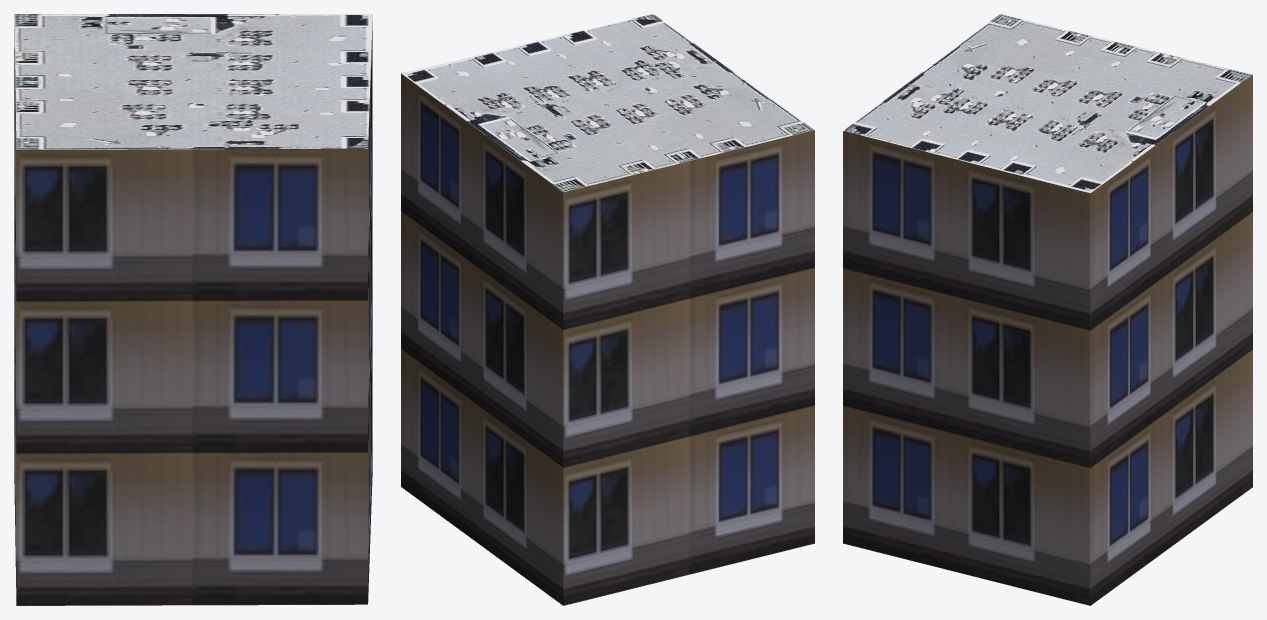
The model's file is ResTex__798.fbx.
3 views of the same model, side by side, from view 1: azimuth 30°, elevation 25°; view 2: azimuth 150°, elevation 25°; view 3: azimuth 270°, elevation 25° (orthographic). The views are drawn at different scales.
Visible parts, largest first — view 1: CityEngineMaterial_5_m, CityEngineMaterial_m; view 2: CityEngineMaterial_5_m, CityEngineMaterial_m; view 3: CityEngineMaterial_5_m, CityEngineMaterial_m.
Boxes of the visible parts, bbox=[...] form: CityEngineMaterial_5_m: bbox=[14, 21, 372, 605]; CityEngineMaterial_m: bbox=[14, 14, 372, 149]; CityEngineMaterial_5_m: bbox=[401, 73, 814, 605]; CityEngineMaterial_m: bbox=[401, 14, 814, 192]; CityEngineMaterial_5_m: bbox=[843, 75, 1252, 605]; CityEngineMaterial_m: bbox=[843, 14, 1252, 193].
Bounding box in the file's own units: 8.39 × 9 × 8.1.
Materials: 2 (2 with a texture image).
